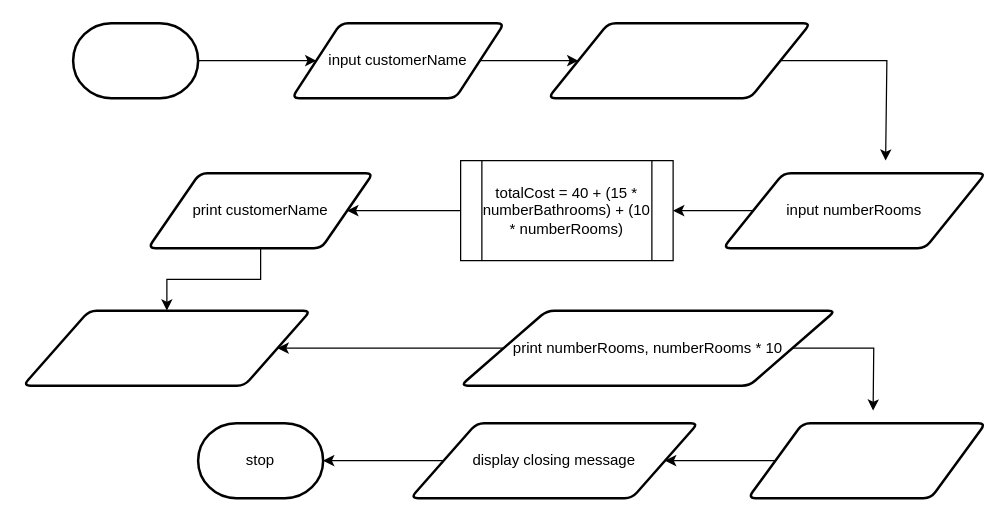
Some shapes in this 1008 by 520 pixel diagram are drawn without their labels. The shapes that lost their labels are listed below. From the top down, each one's centre as x and y in pixels, then its label:
At (x=135, y=60): "start".
At (x=678, y=60): "input numberBathrooms".
At (x=166, y=347): "print numberBathrooms and numberBathrooms * 15".
At (x=866, y=460): "print totalCost".
